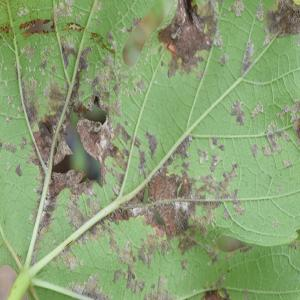Folha: (0, 0, 298, 298)
Fungo: (115, 97, 299, 251), (32, 42, 134, 234), (158, 0, 216, 77), (144, 168, 196, 241), (263, 0, 299, 46), (174, 170, 196, 232), (19, 17, 54, 37), (264, 121, 282, 153), (240, 39, 255, 76), (144, 129, 158, 159), (290, 99, 300, 141), (230, 99, 245, 126), (176, 137, 190, 159), (250, 100, 263, 122), (276, 103, 290, 122), (138, 148, 146, 176), (210, 152, 221, 172), (212, 28, 222, 50), (232, 200, 245, 216), (230, 0, 243, 16), (197, 147, 209, 164), (277, 128, 291, 142), (67, 20, 83, 32), (255, 2, 264, 21), (4, 140, 16, 153), (218, 52, 228, 66), (262, 145, 272, 156), (251, 143, 258, 157), (20, 135, 27, 149), (15, 163, 22, 176), (222, 208, 229, 220), (288, 240, 297, 249), (282, 159, 291, 168), (276, 184, 282, 194), (212, 136, 217, 144)
